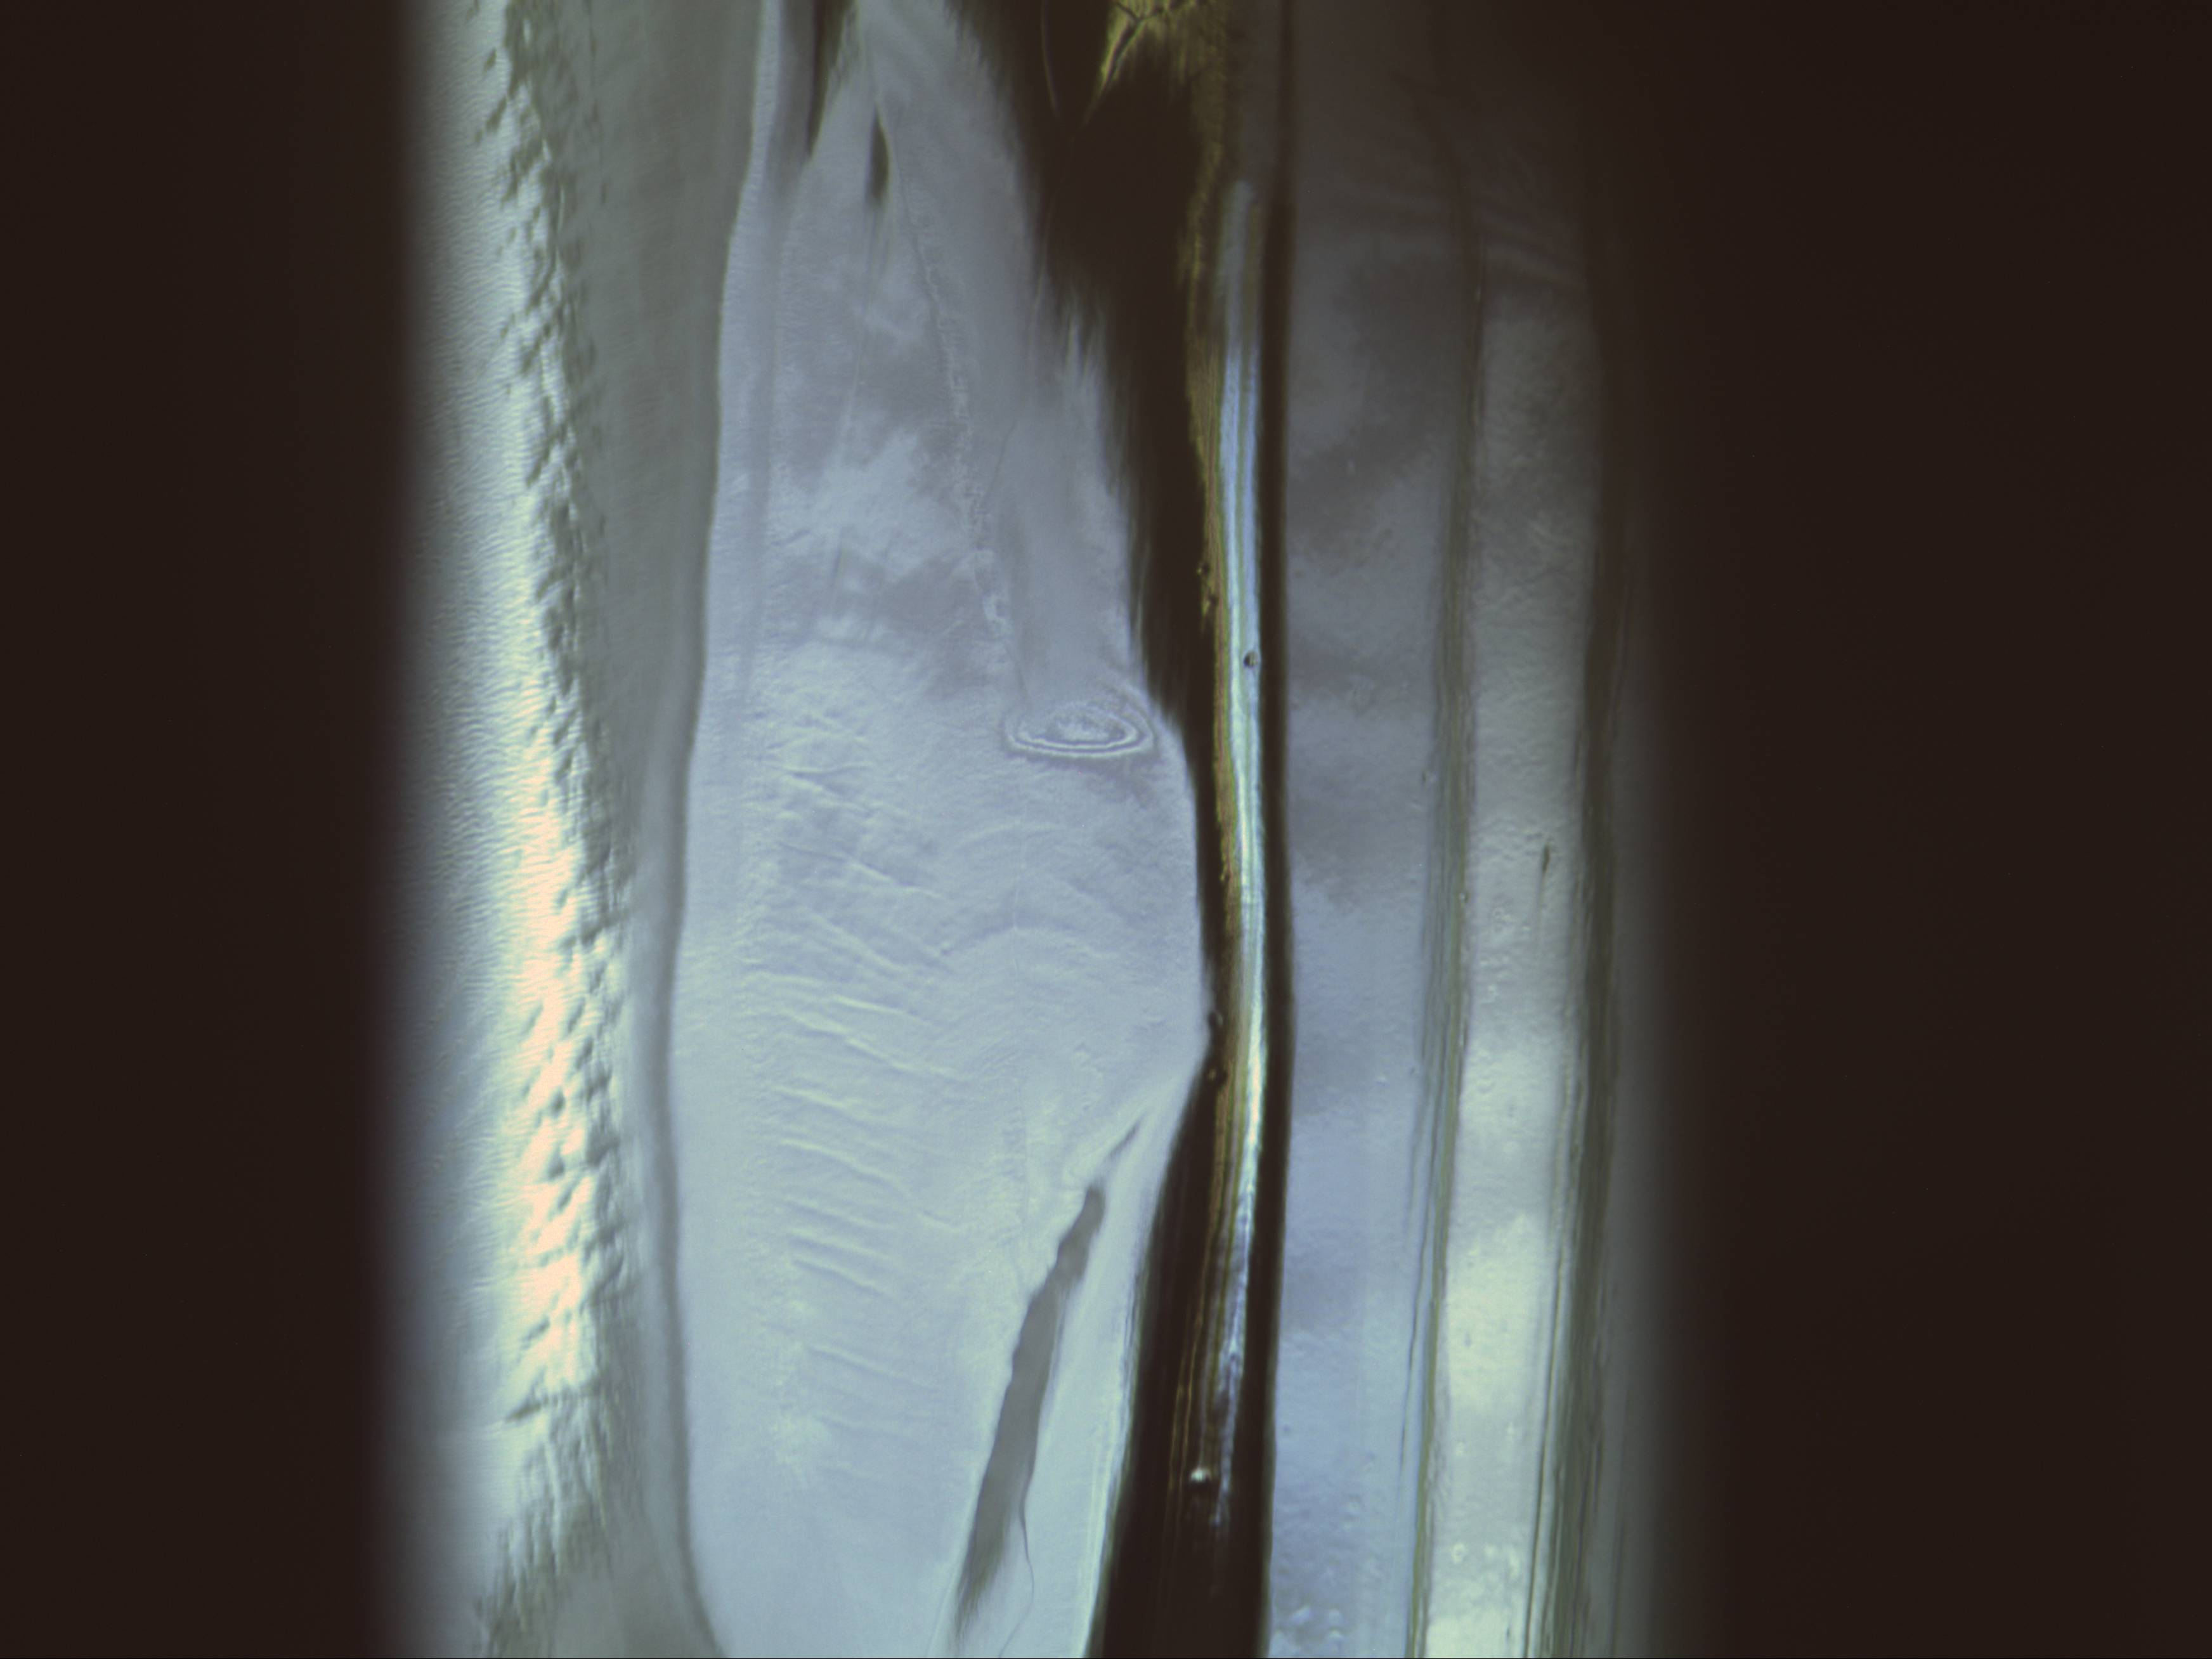defect: (1181, 1453, 1223, 1493), (1238, 643, 1268, 673), (1197, 580, 1221, 613)
